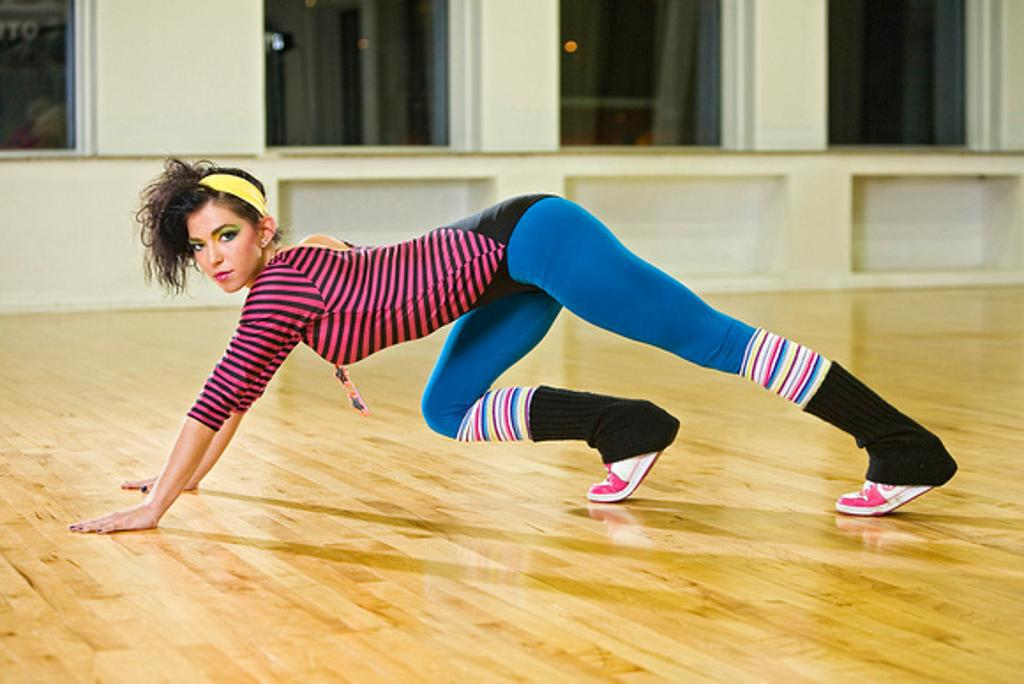face: (187, 209, 255, 297)
